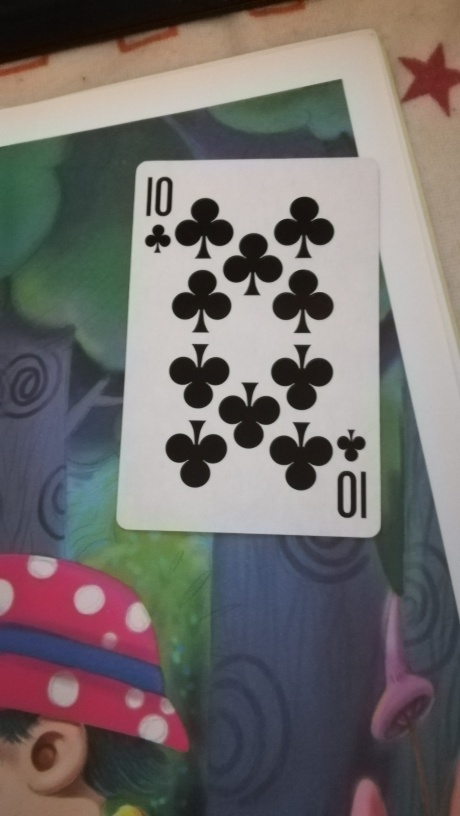mh 10: (116, 155, 382, 538)
